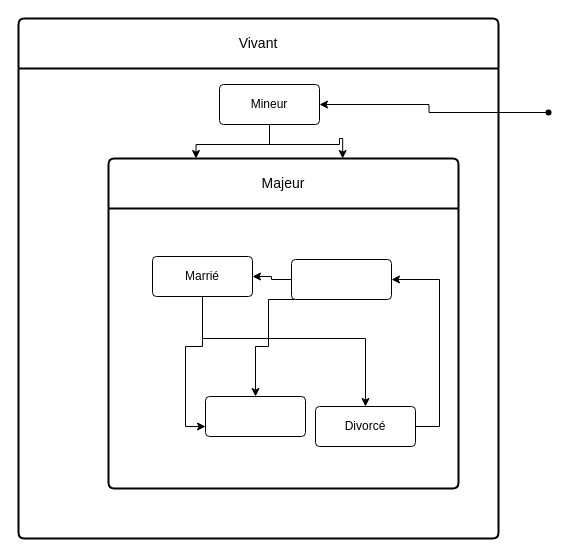
This 576x556 diagram has some shape labels left out. The centre of each missing label's shape, as x and y in pixels:
Célibataire: point (341, 279)
Veuf: point (255, 416)
